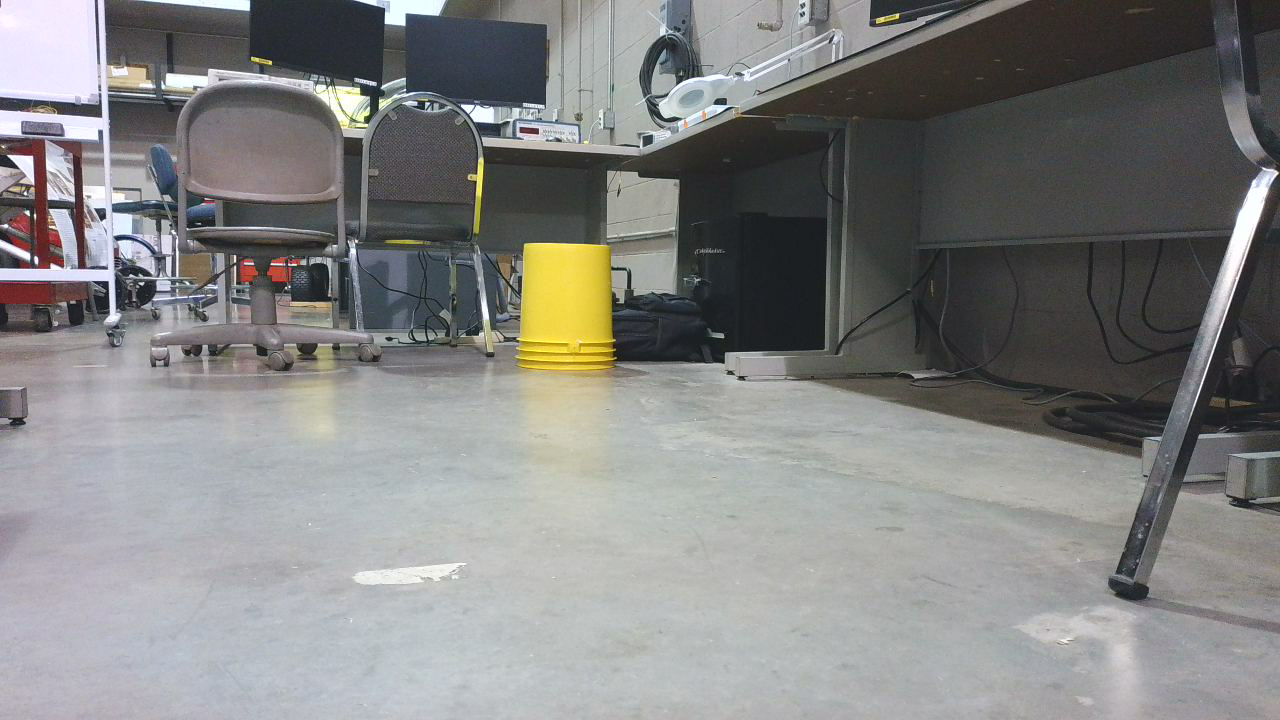yellow_bucket: (518, 246, 625, 380)
